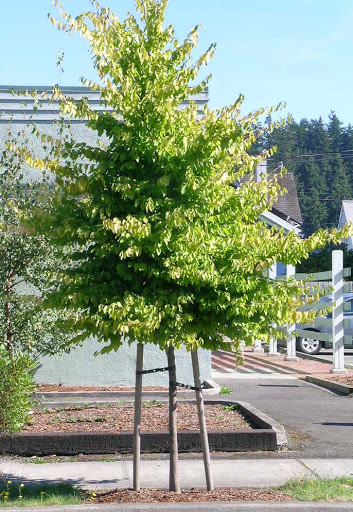tree: (13, 1, 353, 496)
